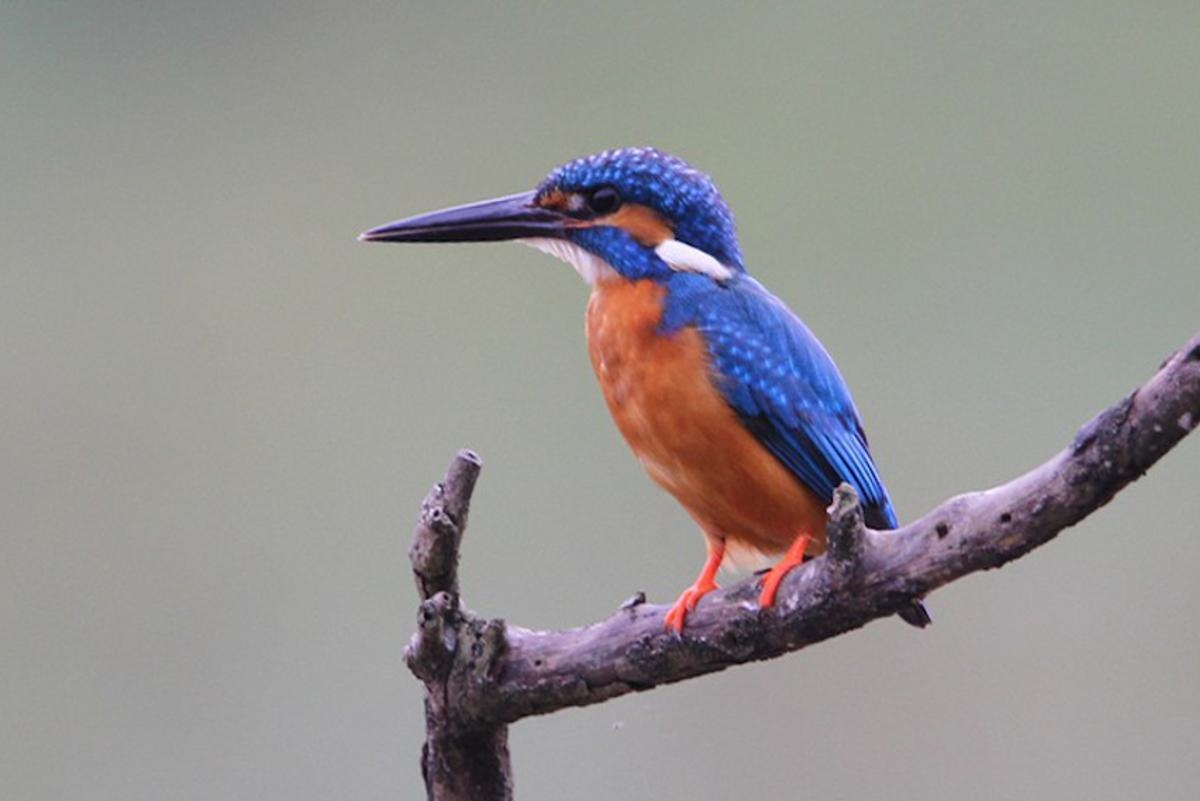kingfisher: (373, 144, 915, 611)
